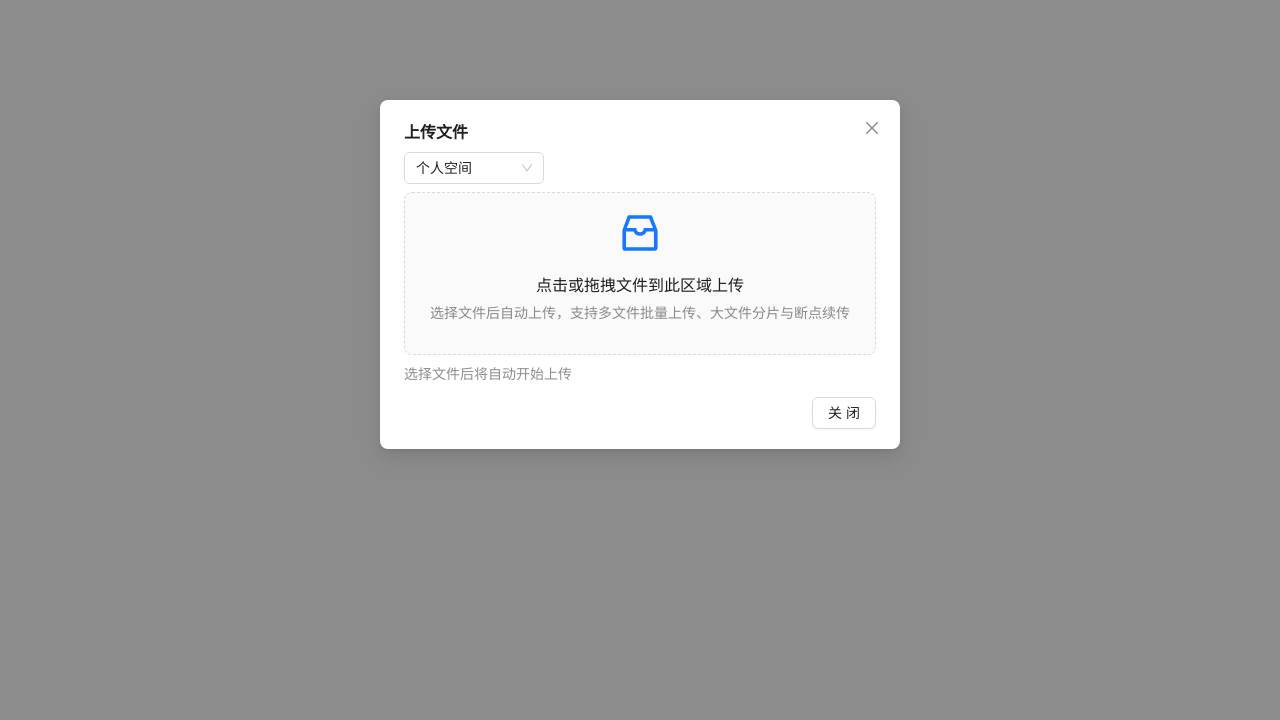
Test: 上传弹窗（TC-UI-004） › 选择组织空间但未选组织：上传被拦截并提示（TC-UP-004）
Note: 打开空间下拉并选择「组织空间」
Press the mouse on the element showing "个人空间" at (474, 168), box [404,152,544,184]
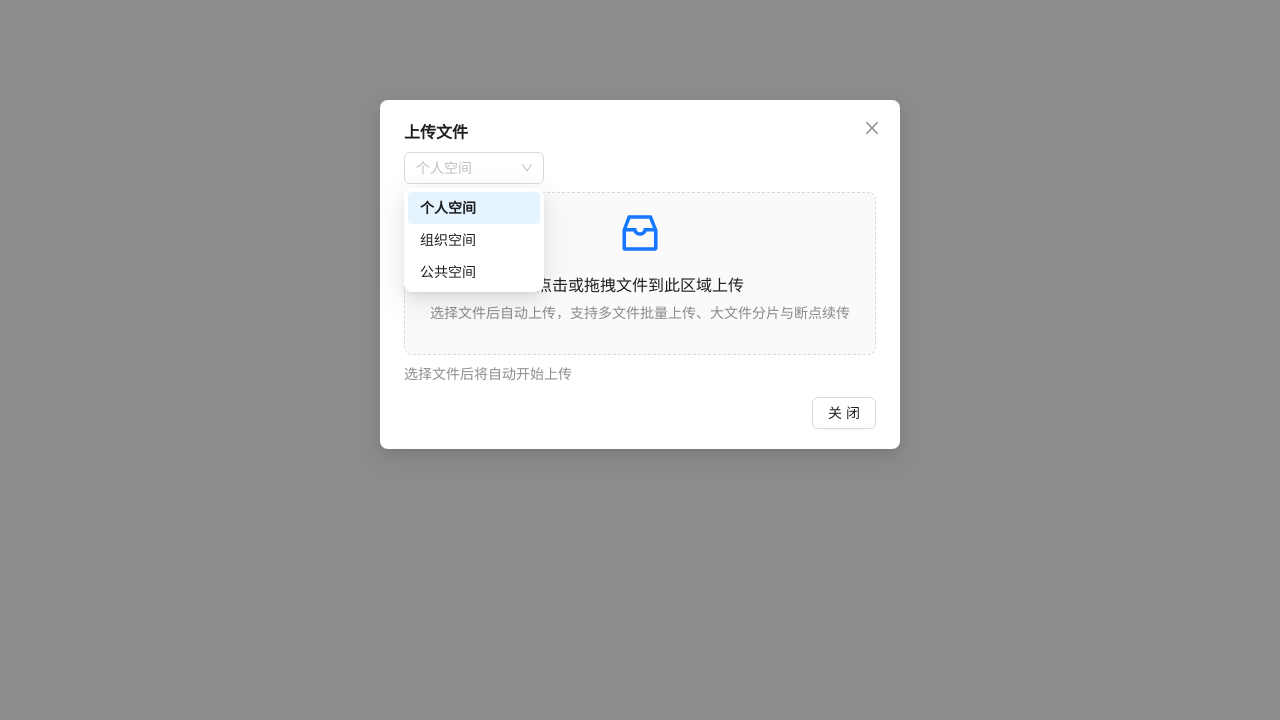
Check: the text "组织空间" is shown
Click the text "组织空间" at (448, 240), box [420,231,476,248]
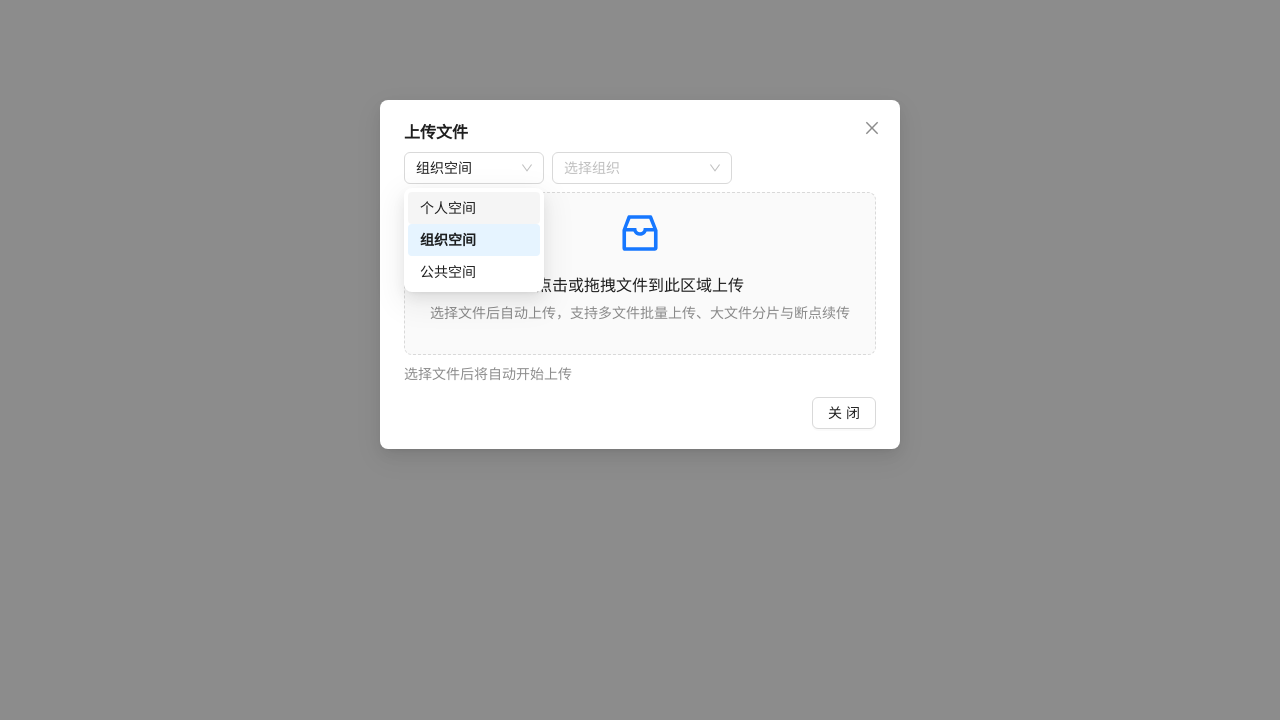
Check: the text "选择组织" is shown, box [564,159,620,176]
